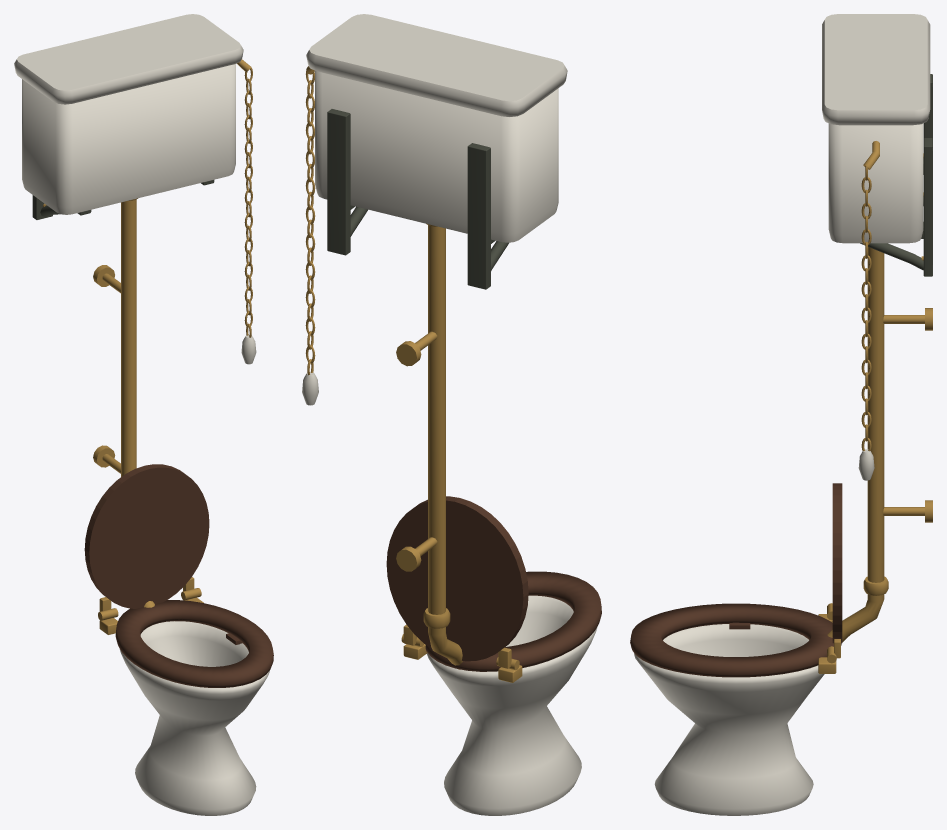
Rendered from rpg-mansion-high-cistern-chain-wc-01.glb.
3 renders of one model, left to right at view 1: azimuth 30°, elevation 25°; view 2: azimuth 150°, elevation 25°; view 3: azimuth 270°, elevation 25°, orthographic. The views are drawn at different scales.
Visible parts, largest first — view 1: rpg-mansion-high-cistern-chain-wc-01; view 2: rpg-mansion-high-cistern-chain-wc-01; view 3: rpg-mansion-high-cistern-chain-wc-01.
Part boxes in pixels (x1,y1,x2,y2): rpg-mansion-high-cistern-chain-wc-01: (14,14,273,815); rpg-mansion-high-cistern-chain-wc-01: (302,14,601,815); rpg-mansion-high-cistern-chain-wc-01: (630,14,932,815).
Bounding box in the file's own units: 0.704 × 2.13 × 0.8.
